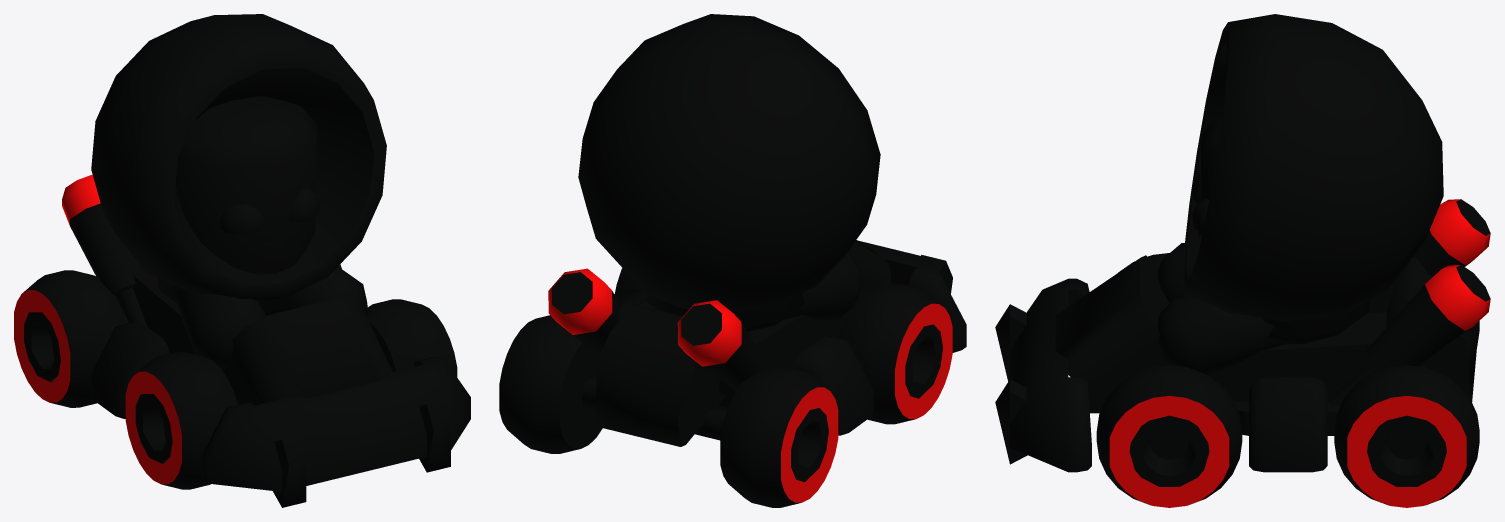
The model's file is kart-ooli.glb.
3 views of the same model, side by side, from view 1: azimuth 30°, elevation 25°; view 2: azimuth 150°, elevation 25°; view 3: azimuth 270°, elevation 25° (orthographic). The views are drawn at different scales.
Parts seen in each view (by area): view 1: character, kart-ooli, wheel-back-right, wheel-front-right, wheel-front-left; view 2: character, kart-ooli, wheel-back-right, wheel-front-right, wheel-back-left; view 3: character, kart-ooli, wheel-front-left, wheel-back-left.
Boxes of the visible parts, x1=… form: character: x1=91, y1=14, x2=386, y2=369; kart-ooli: x1=62, y1=174, x2=470, y2=507; wheel-back-right: x1=14, y1=270, x2=126, y2=407; wheel-front-right: x1=125, y1=352, x2=237, y2=489; wheel-front-left: x1=366, y1=299, x2=457, y2=376; character: x1=578, y1=14, x2=880, y2=331; kart-ooli: x1=548, y1=240, x2=966, y2=446; wheel-back-right: x1=720, y1=367, x2=838, y2=507; wheel-front-right: x1=838, y1=283, x2=952, y2=424; wheel-back-left: x1=499, y1=315, x2=602, y2=453; character: x1=1157, y1=14, x2=1443, y2=375; kart-ooli: x1=995, y1=199, x2=1490, y2=472; wheel-front-left: x1=1096, y1=365, x2=1242, y2=507; wheel-back-left: x1=1334, y1=365, x2=1479, y2=507.
Size of the model in its own units: 0.9744 by 1.33 by 1.43.
1 material, 1 textured.
